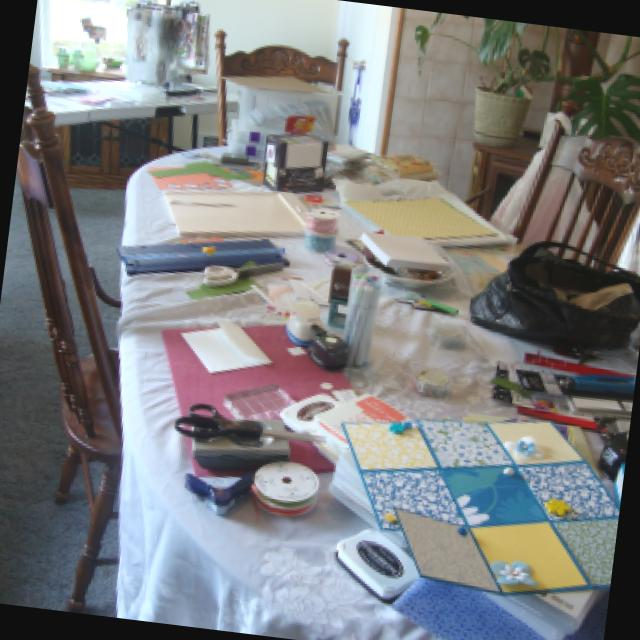mess: (83, 105, 640, 640), (22, 44, 278, 150)
